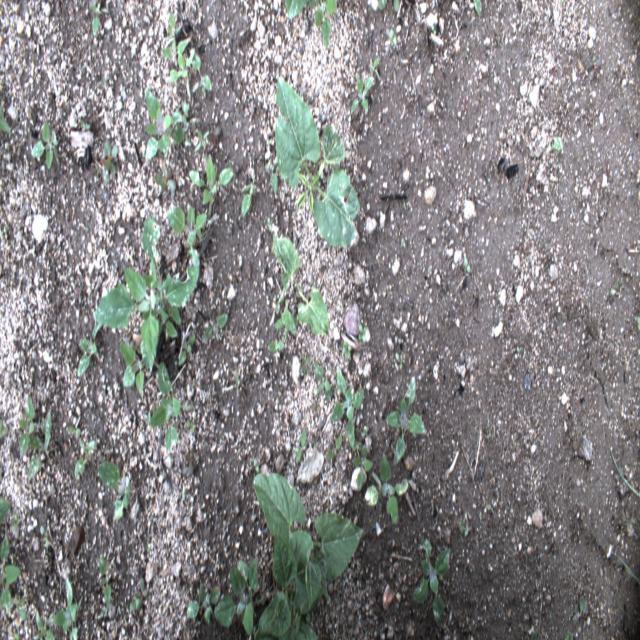crop: (252, 466, 369, 637), (88, 210, 203, 371), (273, 70, 360, 252), (272, 224, 330, 344)
weed: (141, 89, 212, 169), (158, 10, 214, 100), (409, 538, 456, 636), (213, 550, 264, 637), (383, 372, 430, 464), (363, 447, 411, 533), (144, 361, 184, 455), (184, 145, 236, 212), (329, 363, 364, 451), (280, 0, 340, 48), (0, 494, 23, 618), (164, 193, 212, 251), (91, 457, 132, 523), (14, 390, 43, 479), (114, 329, 150, 400), (185, 569, 227, 626), (53, 572, 89, 638), (605, 433, 638, 500), (32, 112, 62, 178), (349, 423, 375, 498), (298, 348, 332, 403), (200, 304, 234, 350), (94, 549, 116, 619), (73, 326, 102, 378), (126, 569, 152, 627), (94, 134, 118, 191), (564, 591, 593, 638), (346, 67, 374, 113), (72, 436, 100, 481), (606, 545, 638, 583), (452, 504, 478, 550), (291, 420, 313, 472), (172, 320, 196, 366), (8, 594, 32, 638), (61, 402, 86, 444), (36, 510, 58, 557), (32, 602, 60, 638), (86, 1, 110, 40), (39, 403, 55, 457), (149, 164, 176, 195), (238, 178, 255, 226), (579, 44, 602, 78), (178, 443, 196, 486), (265, 333, 294, 359), (544, 127, 566, 161), (326, 428, 345, 464), (366, 47, 384, 83), (392, 340, 412, 371), (370, 0, 403, 18), (178, 484, 198, 512), (387, 20, 403, 54), (354, 314, 374, 341), (426, 12, 443, 41), (232, 369, 247, 398), (340, 335, 354, 365), (462, 246, 474, 281), (76, 112, 95, 134), (397, 229, 411, 258), (0, 100, 11, 136), (184, 410, 196, 440), (0, 412, 9, 444), (468, 0, 487, 15)
